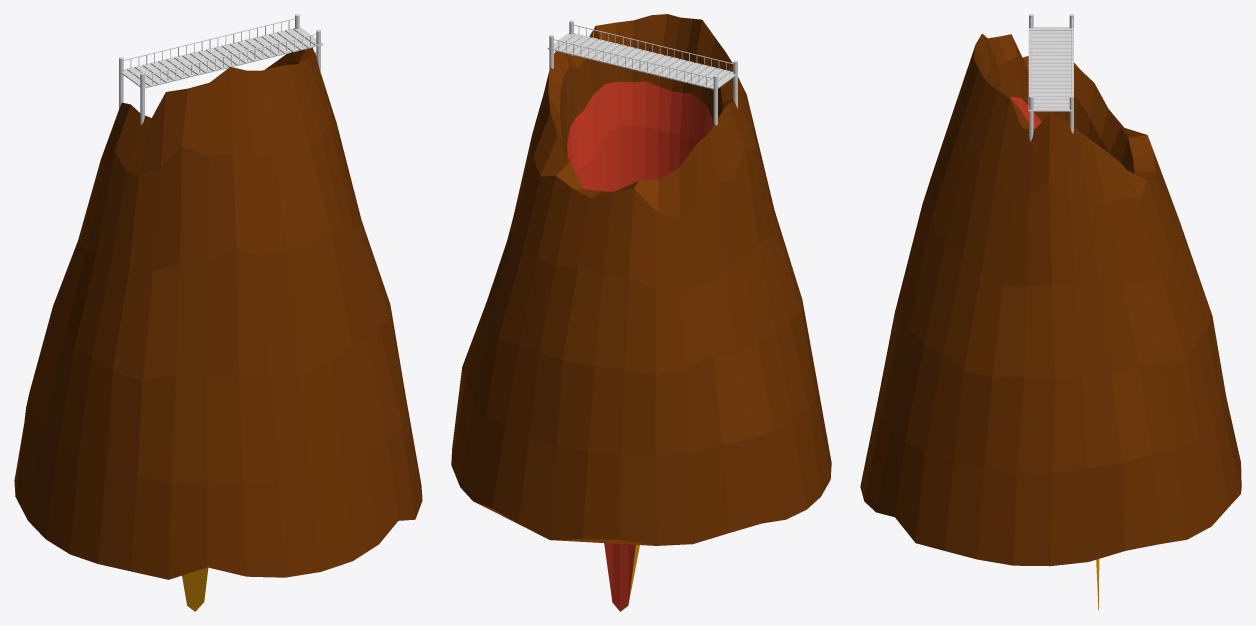
The model's file is Bridge.fbx.
The picture shows the model from 3 angles, left to right: view 1: azimuth 30°, elevation 25°; view 2: azimuth 150°, elevation 25°; view 3: azimuth 270°, elevation 25°; orthographic projection. The views are drawn at different scales.
Parts seen in each view (by area): view 1: Cylinder; view 2: Cylinder; view 3: Cylinder.
Boxes of the visible parts, x1,y1,x2,y2 form: Cylinder: [14, 47, 422, 611]; Cylinder: [451, 14, 831, 611]; Cylinder: [860, 33, 1241, 610].
Size of the model in its own units: 664 by 1082 by 660.
